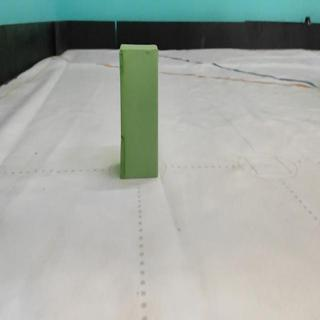greenbox: (119, 43, 159, 179)
